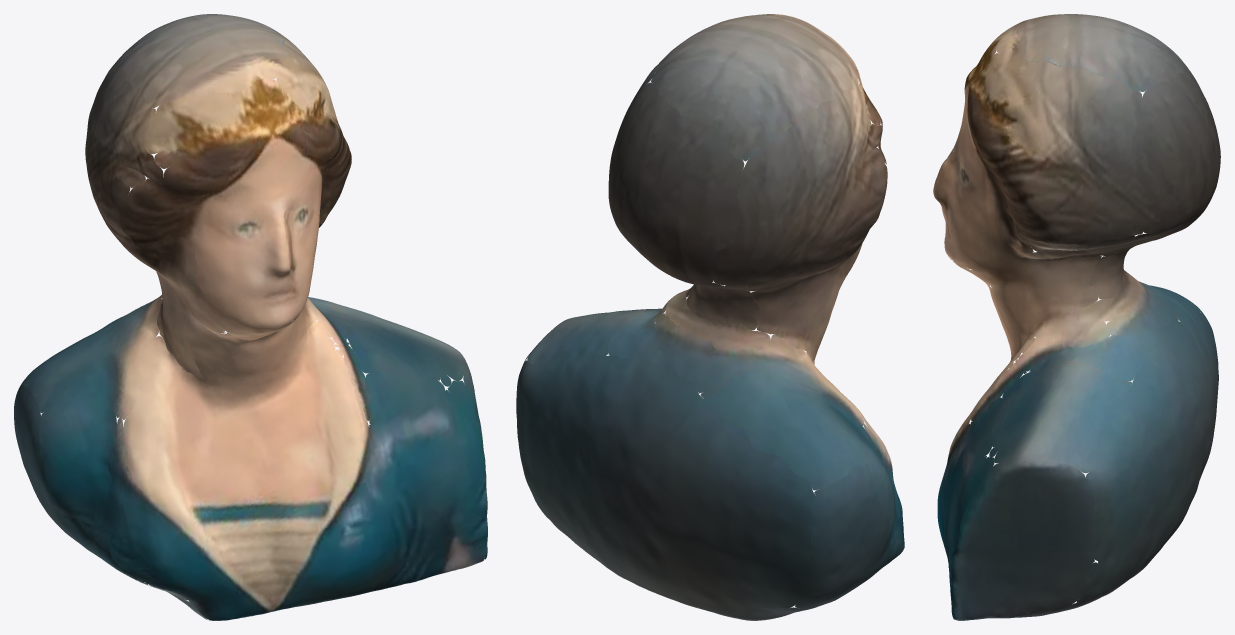
Rendered from topaze.glb.
3 renders of one model, left to right at view 1: azimuth 30°, elevation 25°; view 2: azimuth 150°, elevation 25°; view 3: azimuth 270°, elevation 25°, orthographic. The views are drawn at different scales.
Visible parts, largest first — view 1: topaze_Figurehead; view 2: topaze_Figurehead; view 3: topaze_Figurehead.
Part boxes in pixels (bbox=[...]): topaze_Figurehead: bbox=[14, 14, 487, 620]; topaze_Figurehead: bbox=[516, 14, 904, 620]; topaze_Figurehead: bbox=[933, 14, 1220, 620].
Size of the model in its own units: 1.82 by 2.5 by 1.26.
1 material, 1 textured.
